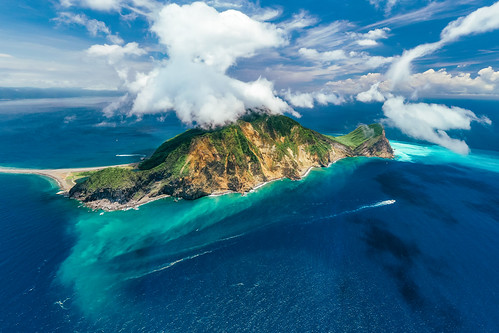turtleIslandTop: (28, 110, 420, 214)
